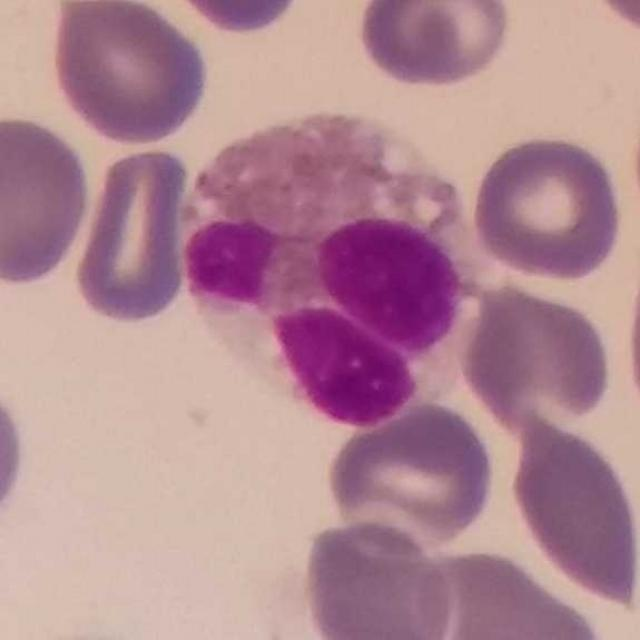Eosinophil: (181, 104, 477, 423)
RBC: (322, 398, 499, 549), (504, 415, 640, 611), (456, 277, 618, 439), (43, 0, 214, 148), (466, 129, 628, 284), (69, 143, 196, 330), (297, 515, 458, 640), (411, 544, 612, 640), (0, 110, 95, 290), (352, 0, 516, 91), (153, 0, 310, 37), (0, 368, 31, 539), (584, 0, 640, 41)
